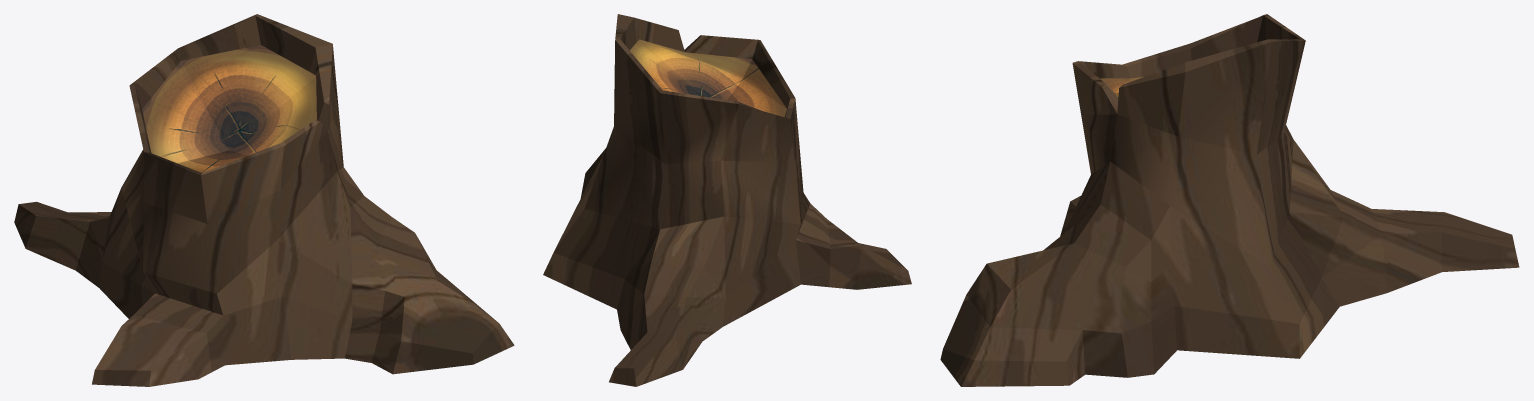
The model's file is stump.FBX.
3 renders of one model, left to right at view 1: azimuth 30°, elevation 25°; view 2: azimuth 150°, elevation 25°; view 3: azimuth 270°, elevation 25°, orthographic. The views are drawn at different scales.
Visible parts, largest first — view 1: Stump; view 2: Stump; view 3: Stump.
Part boxes in pixels (x1,y1,x2,y2): Stump: (14,14,514,386); Stump: (543,14,911,386); Stump: (940,14,1519,386).
Size of the model in its own units: 21.12 by 14.52 by 26.91.
Materials: 1 (1 with a texture image).
